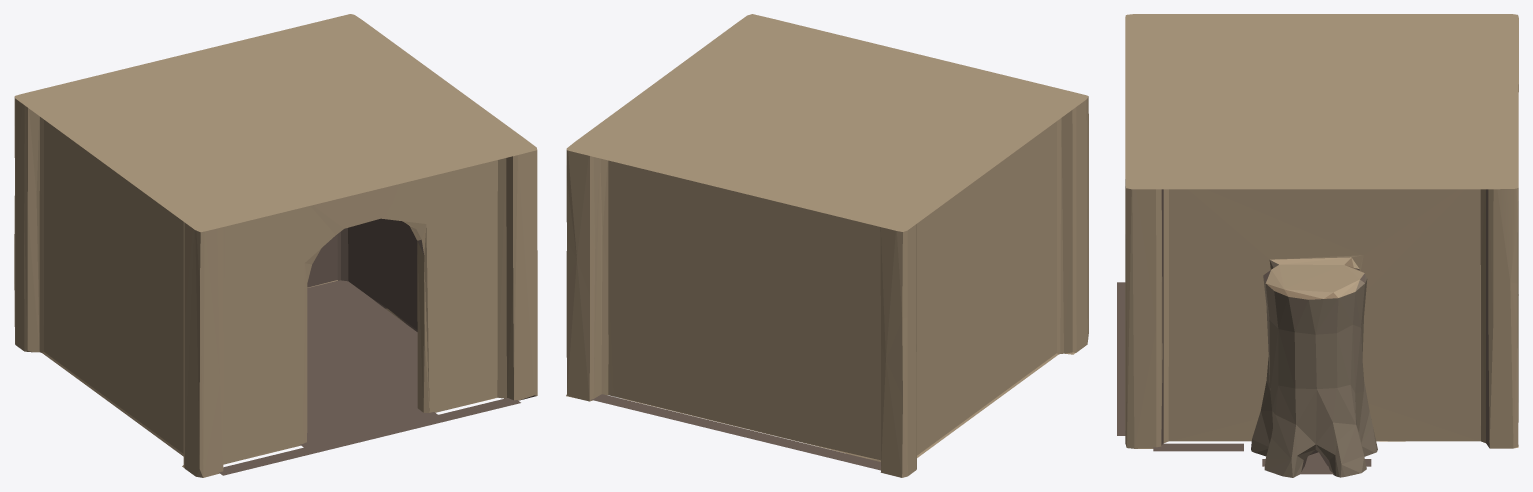
Rendered from etape-1.glb.
The picture shows the model from 3 angles, left to right: view 1: azimuth 30°, elevation 25°; view 2: azimuth 150°, elevation 25°; view 3: azimuth 270°, elevation 25°; orthographic projection. The views are drawn at different scales.
Parts seen in each view (by area): view 1: geometry_0; view 2: geometry_0; view 3: geometry_0.
Part boxes in pixels (x1=…): geometry_0: x1=14, y1=14, x2=537, y2=477; geometry_0: x1=566, y1=14, x2=1088, y2=477; geometry_0: x1=1117, y1=14, x2=1518, y2=477.
Bounding box in the file's own units: 0.8358 × 0.4941 × 0.6937.
